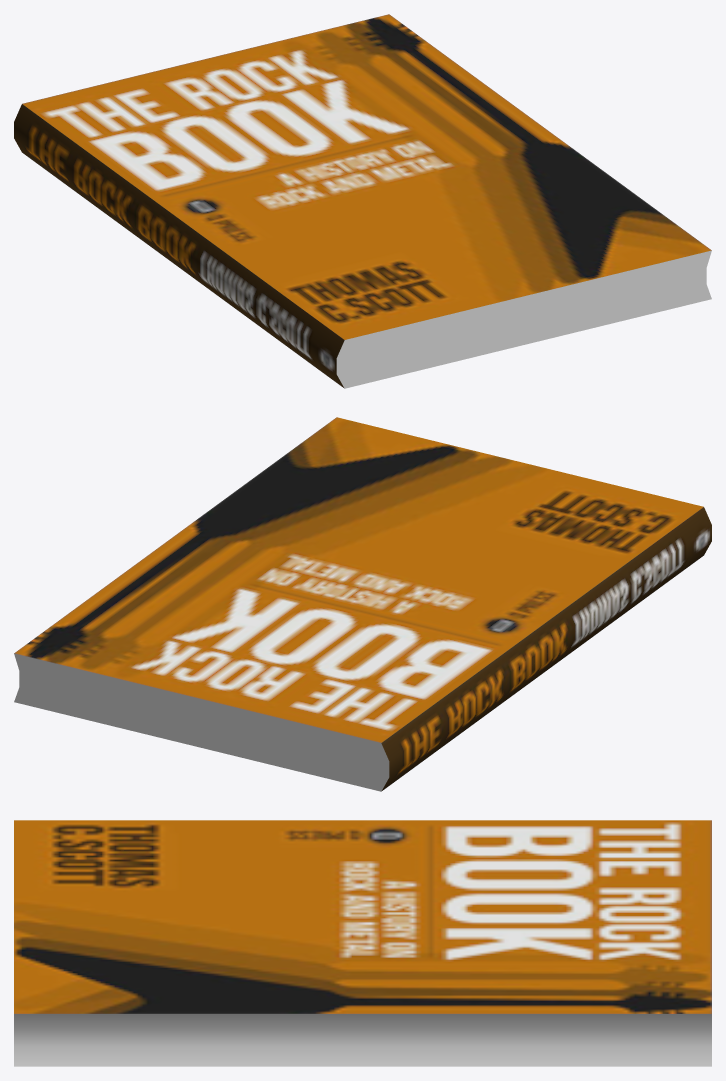
Rendered from book1.FBX.
The picture shows the model from 3 angles, top to bottom: view 1: azimuth 30°, elevation 25°; view 2: azimuth 150°, elevation 25°; view 3: azimuth 270°, elevation 25°; orthographic projection. The views are drawn at different scales.
Parts seen in each view (by area): view 1: book1; view 2: book1; view 3: book1.
Boxes of the visible parts, x1=… form: book1: x1=14, y1=14, x2=711, y2=388; book1: x1=14, y1=417, x2=711, y2=791; book1: x1=14, y1=820, x2=711, y2=1066.
Size of the model in its own units: 6.97 by 10.39 by 0.865.
